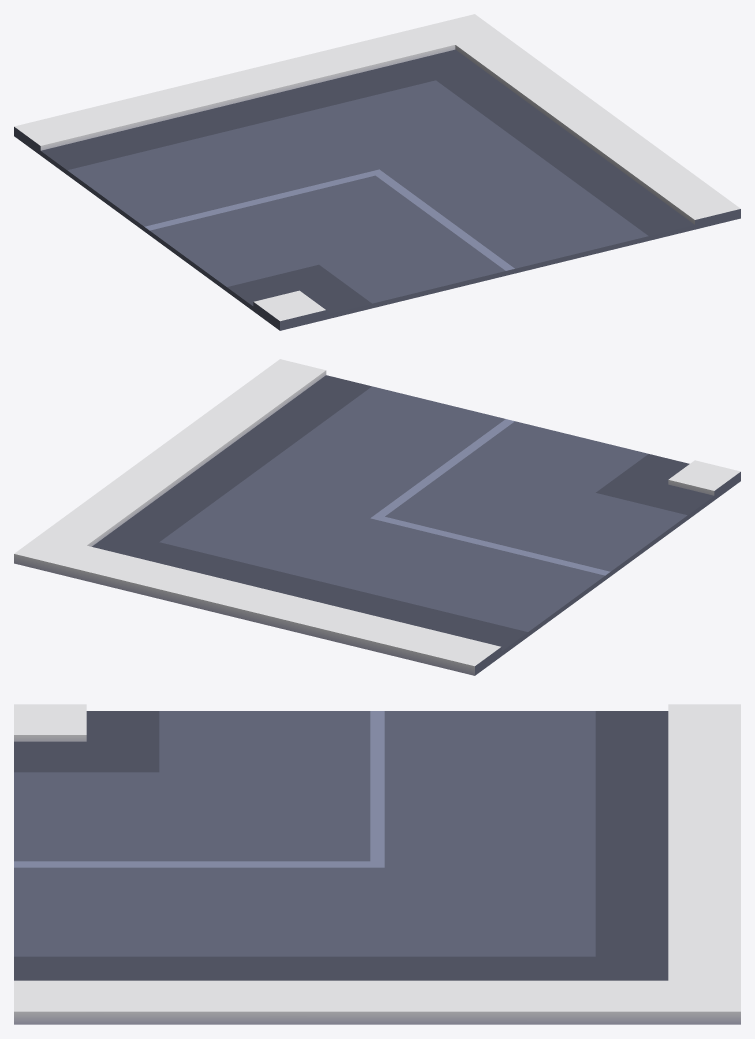
File: road-bend-square.gltf
The picture shows the model from 3 angles, top to bottom: view 1: azimuth 30°, elevation 25°; view 2: azimuth 150°, elevation 25°; view 3: azimuth 270°, elevation 25°; orthographic projection. The views are drawn at different scales.
Visible parts, largest first — view 1: road-bend-square; view 2: road-bend-square; view 3: road-bend-square.
Boxes of the visible parts, x1,y1,x2,y2 form: road-bend-square: (14,14,740,330); road-bend-square: (14,359,740,675); road-bend-square: (14,704,740,1024).
Bounding box in the file's own units: 1 × 0.02 × 1.
Materials: 1 (1 with a texture image).
